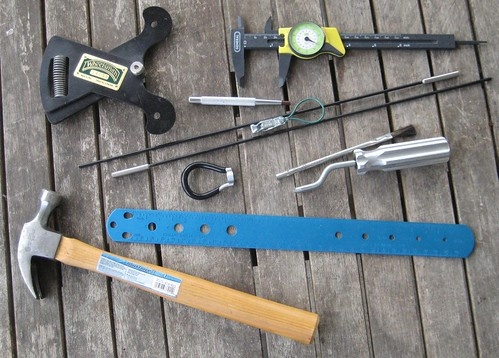hammer: (16, 188, 317, 347)
